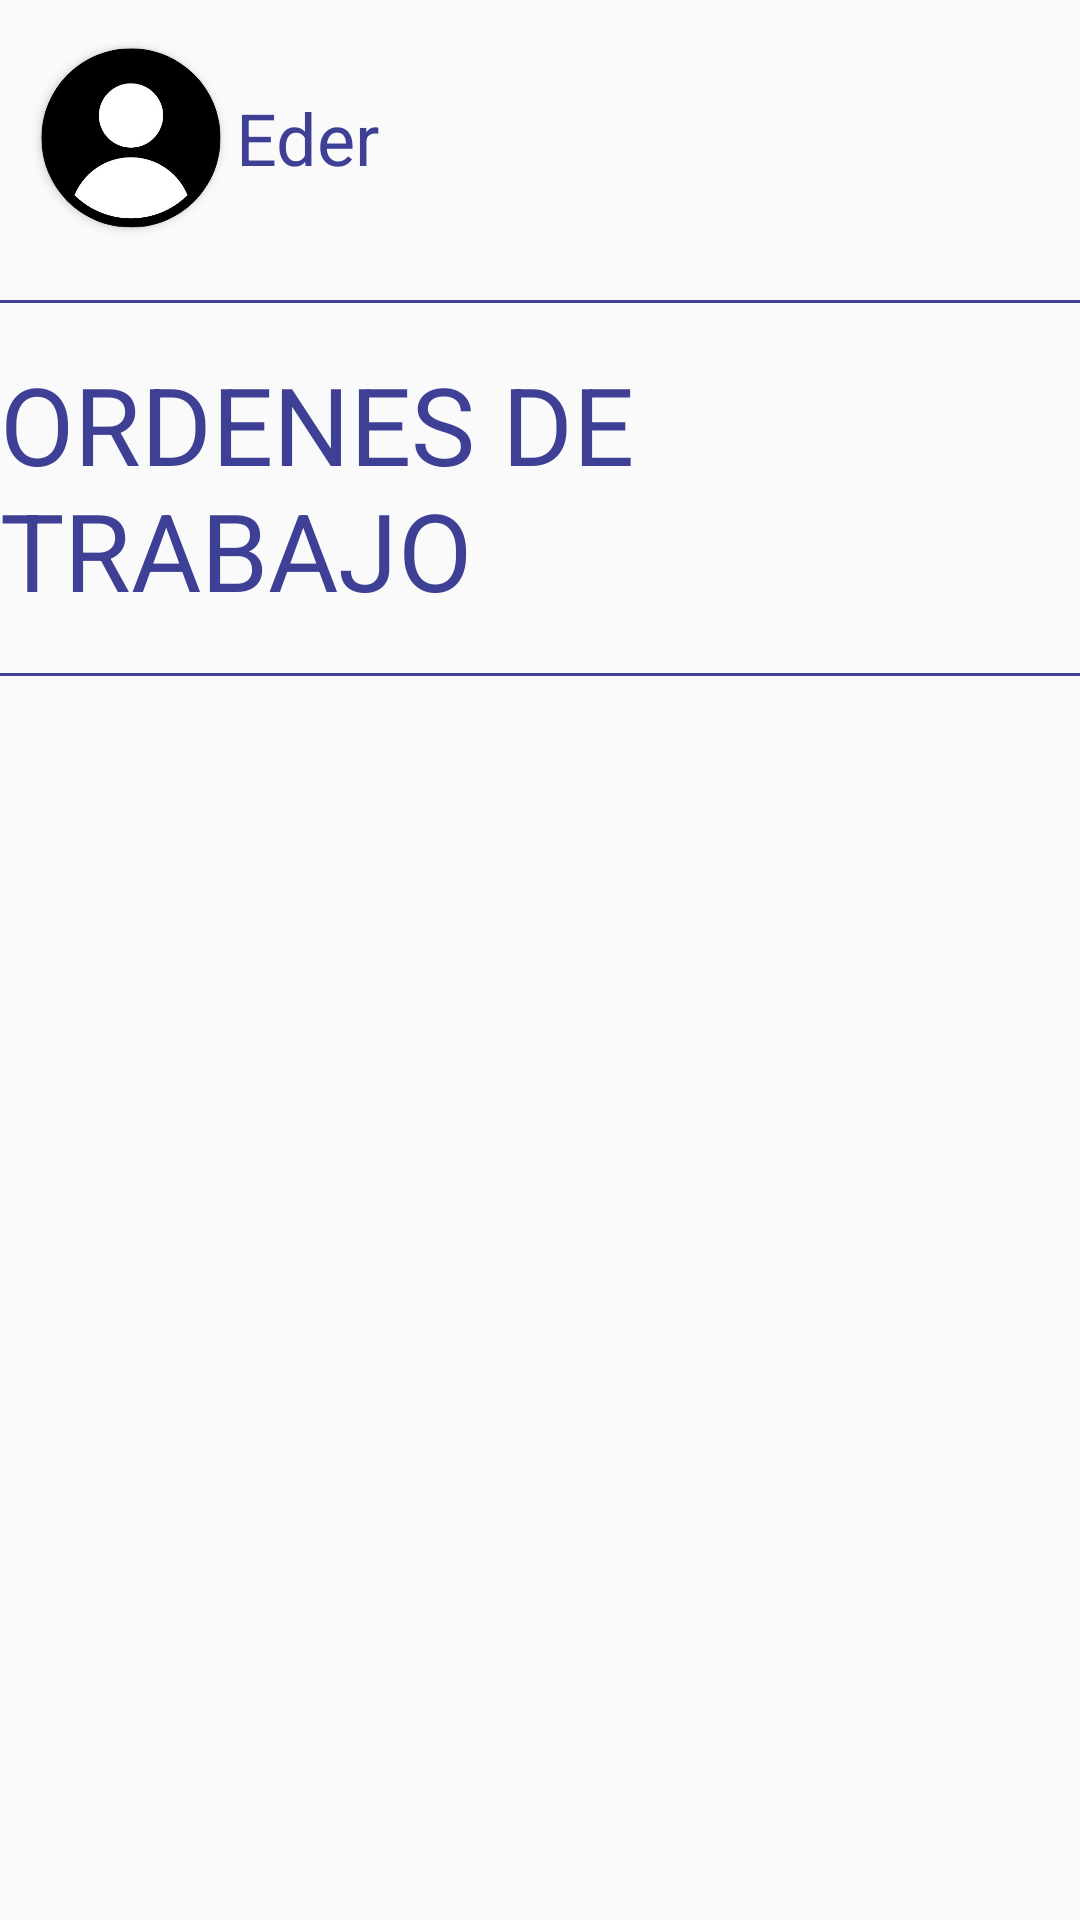

Where to tap for icons on this 1080px x 1920px app screen, as [x,y]:
usuario: [131,138]
